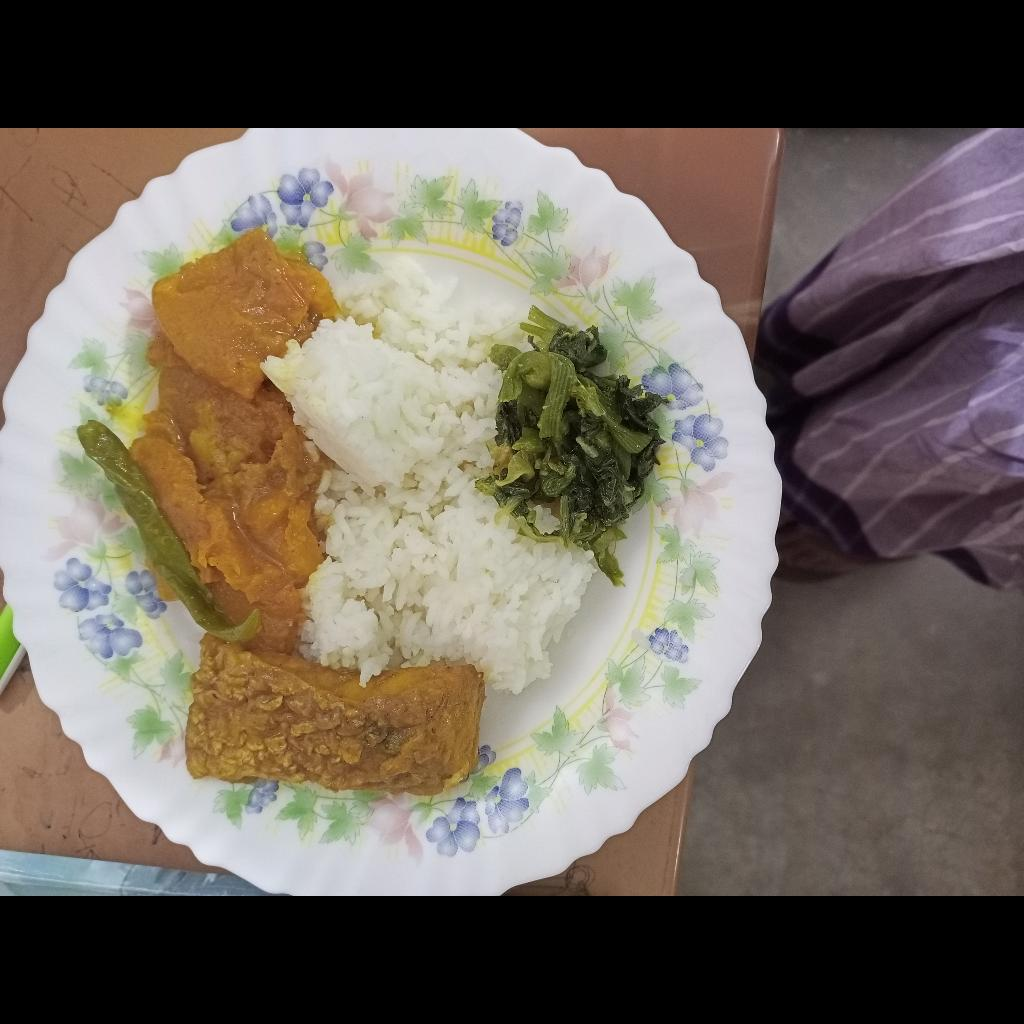fish: (182, 634, 490, 792)
kumra-vaji: (130, 224, 348, 644)
rice: (254, 245, 599, 695)
shak: (480, 305, 669, 582)
